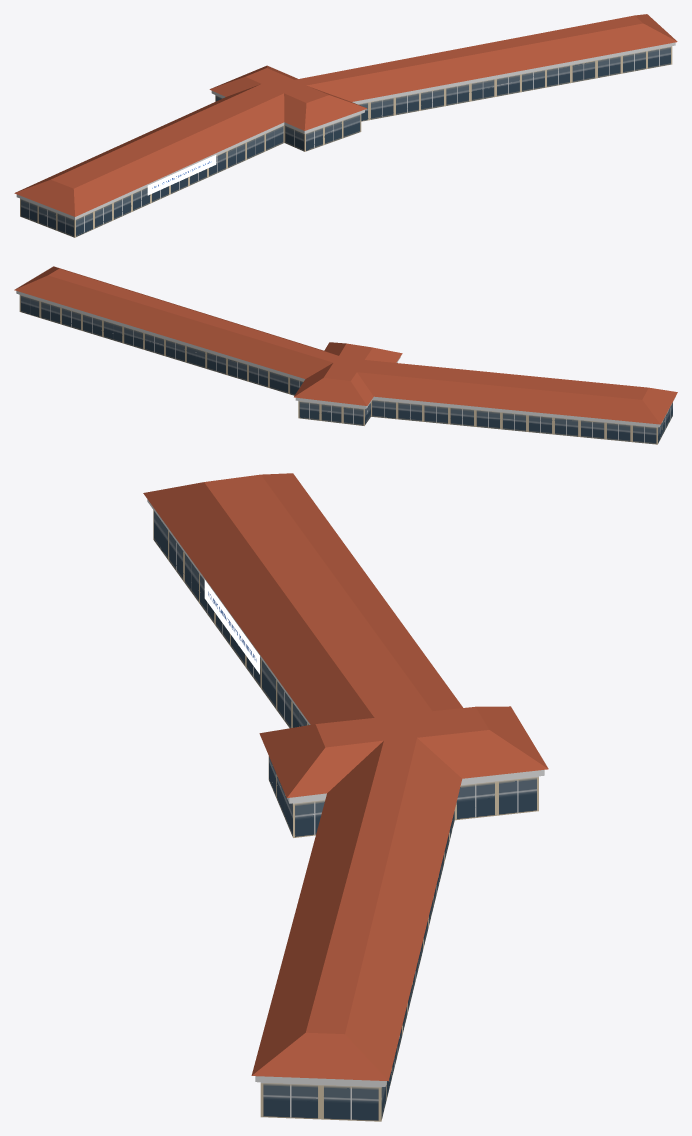
Rendered from santateresita.glb.
3 renders of one model, top to bottom at view 1: azimuth 30°, elevation 25°; view 2: azimuth 150°, elevation 25°; view 3: azimuth 270°, elevation 25°, orthographic. The views are drawn at different scales.
Parts seen in each view (by area): view 1: santateresita_lod0; view 2: santateresita_lod0; view 3: santateresita_lod0.
Boxes of the visible parts, x1=… form: santateresita_lod0: x1=14, y1=14, x2=677, y2=237; santateresita_lod0: x1=14, y1=266, x2=677, y2=444; santateresita_lod0: x1=143, y1=473, x2=548, y2=1121.
Size of what is drawn, in the model's own units: 106 by 5.6 by 29.88.
4 materials, 2 textured.
